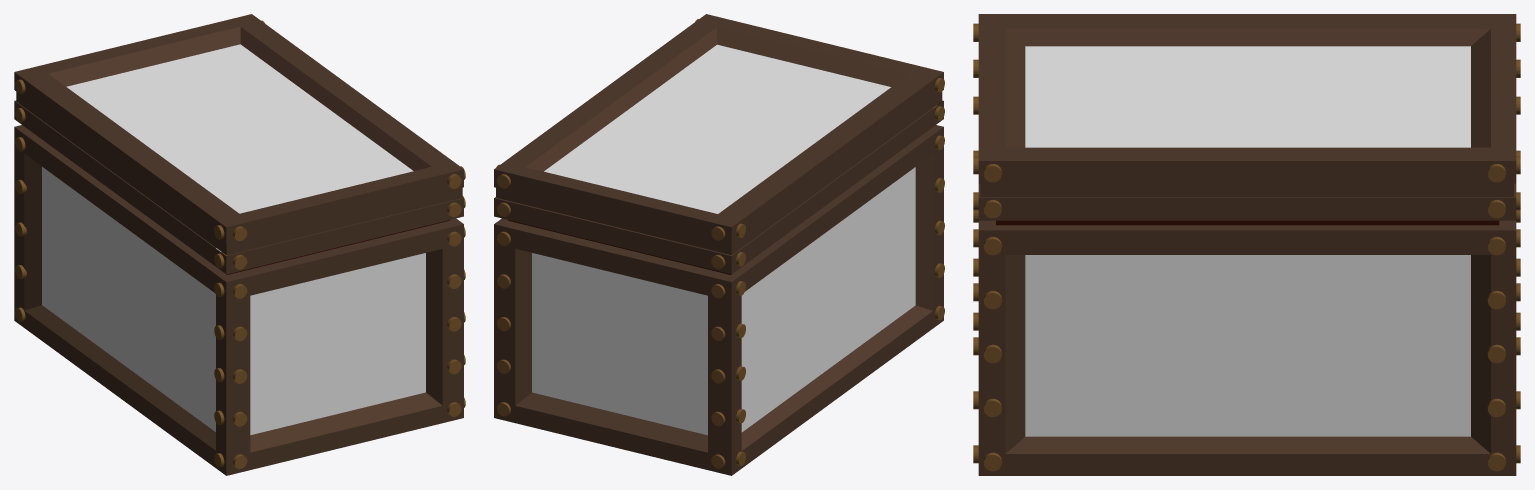
File: MYSTREY BOX.fbx
3 views of the same model, side by side, from view 1: azimuth 30°, elevation 25°; view 2: azimuth 150°, elevation 25°; view 3: azimuth 270°, elevation 25° (orthographic). The views are drawn at different scales.
Parts seen in each view (by area): view 1: MYSTREY BOX; view 2: MYSTREY BOX; view 3: MYSTREY BOX.
Part boxes in pixels (<box>): MYSTREY BOX: <box>14,14,465,475</box>; MYSTREY BOX: <box>494,14,944,475</box>; MYSTREY BOX: <box>973,14,1520,475</box>.
Size of the model in its own units: 60.18 by 58.53 by 92.17.
